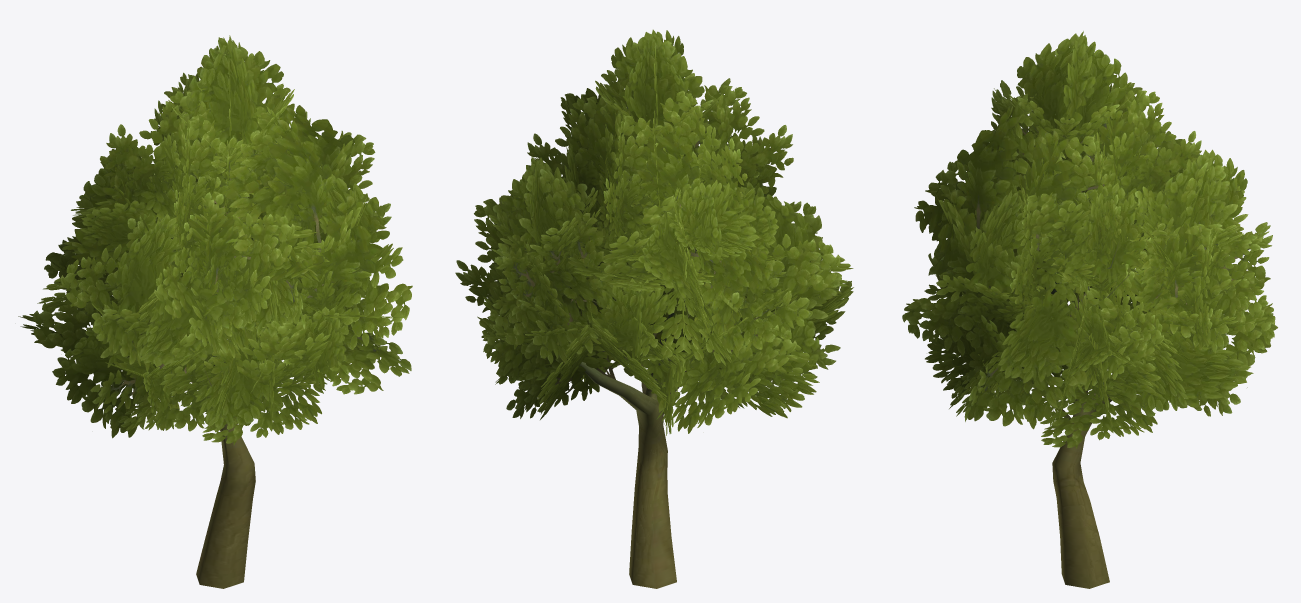
3 renders of one model, left to right at view 1: azimuth 30°, elevation 25°; view 2: azimuth 150°, elevation 25°; view 3: azimuth 270°, elevation 25°, orthographic.
Bounding box in the file's own units: 8.83 × 13.76 × 8.7.
1 material, 1 textured.
